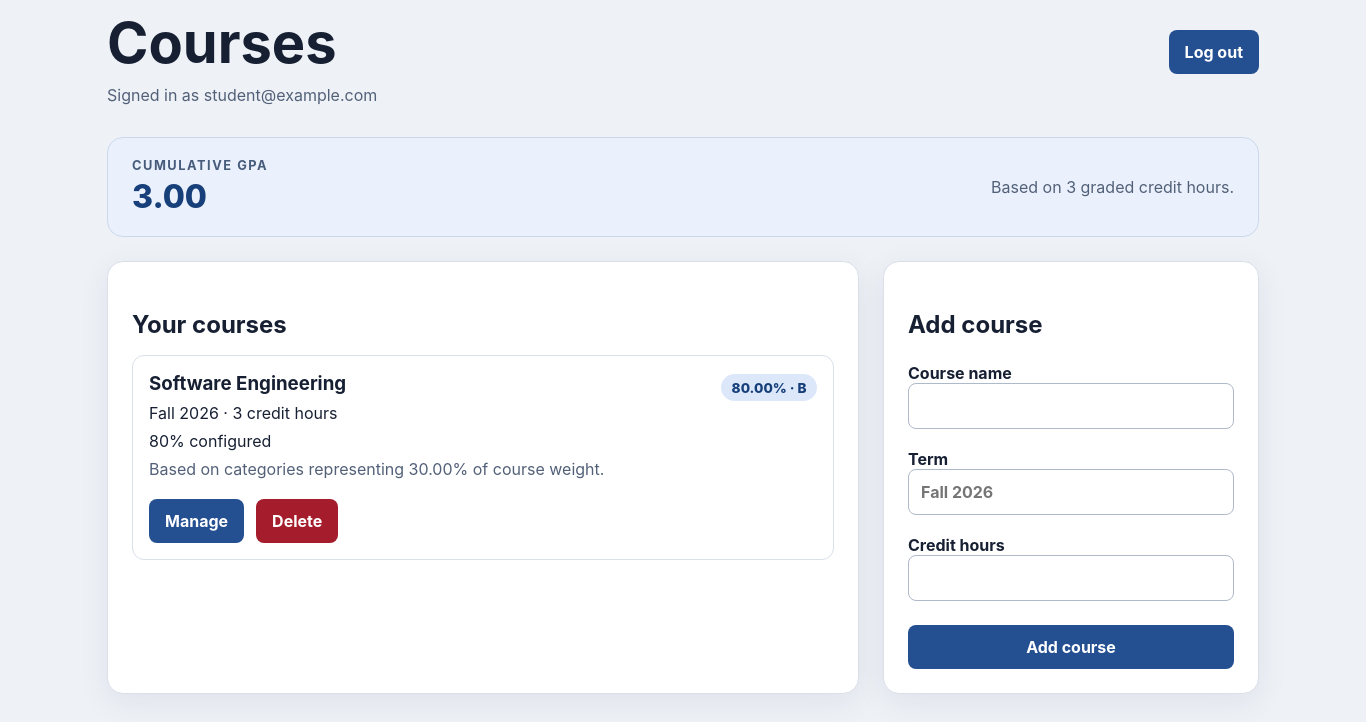
Scenario: What-If calculator › clears the projection and resets the inputs
Click the button "Manage". click: (197, 521)
box: [149, 499, 244, 543]
(page scrolled)
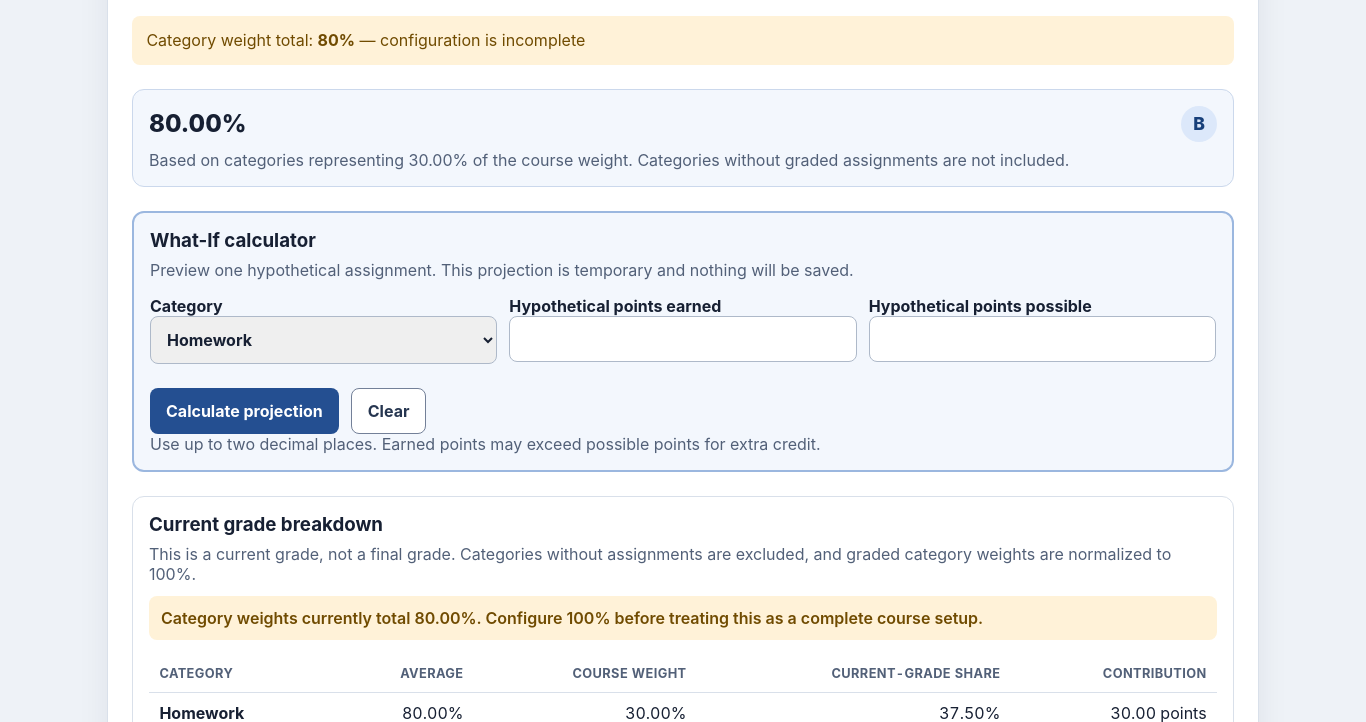
Expected: the heading "What-If calculator" is shown, [150, 229, 316, 252]
Type "92" into the number field labelled "Hypothetical points earned". click: (683, 339)
box: [509, 316, 857, 362]
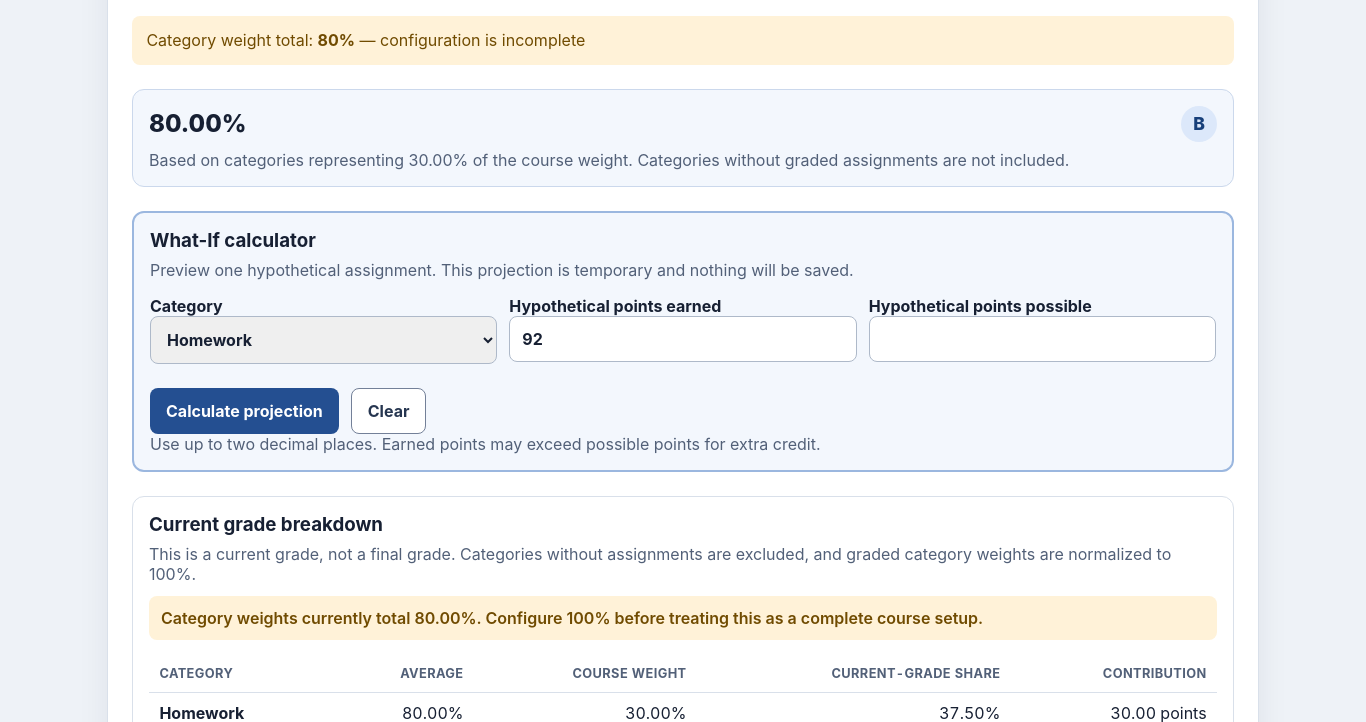
Type "100" into the number field labelled "Hypothetical points possible". click: (1042, 339)
box: [869, 316, 1216, 362]
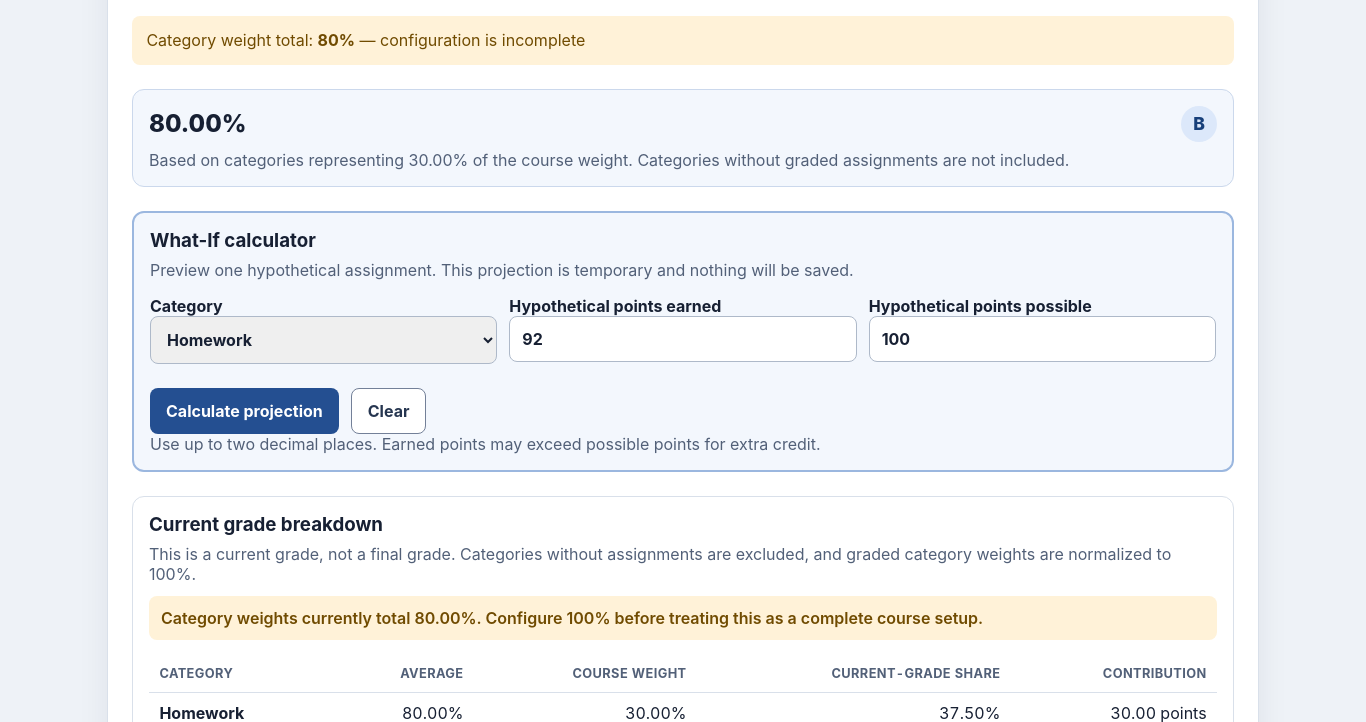
Click the button "Calculate projection". click: (244, 411)
box: [150, 388, 339, 434]
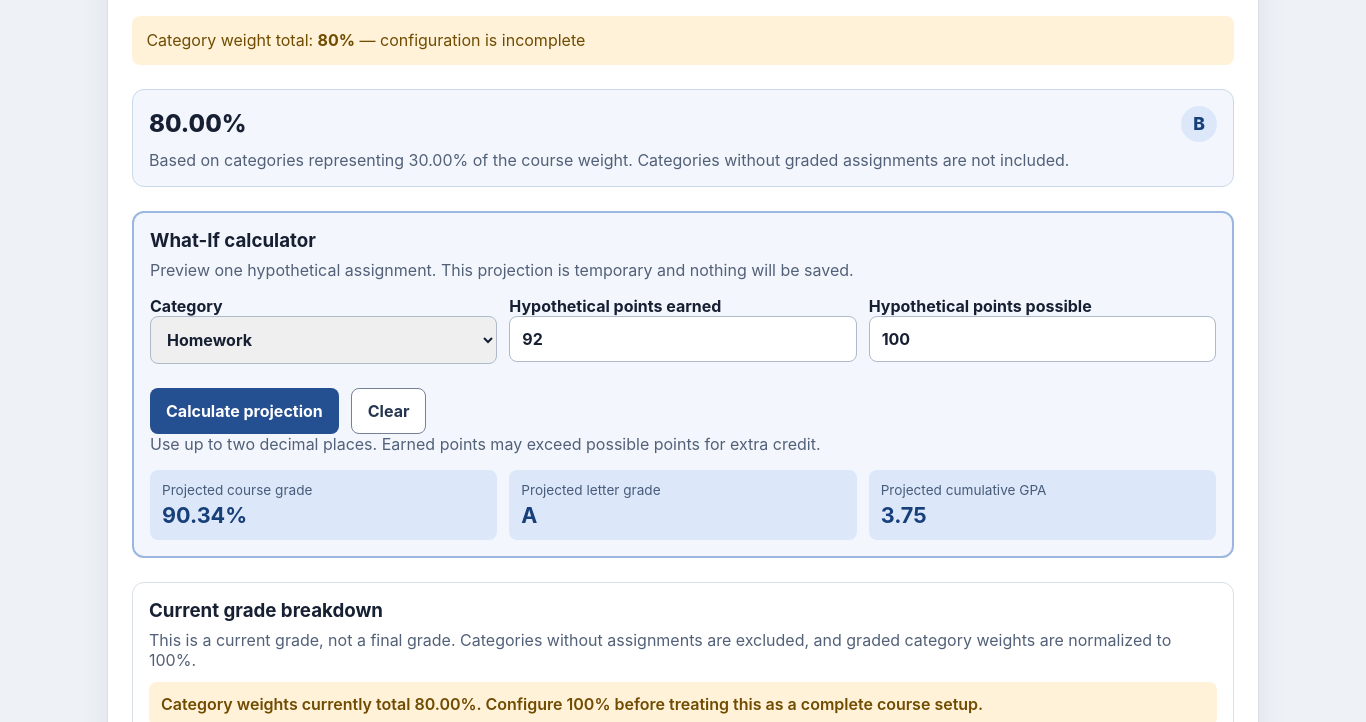
Expected: the text "90.34%" is shown, [162, 502, 247, 528]
Click the button "Clear". click: (389, 411)
box: [351, 388, 426, 434]
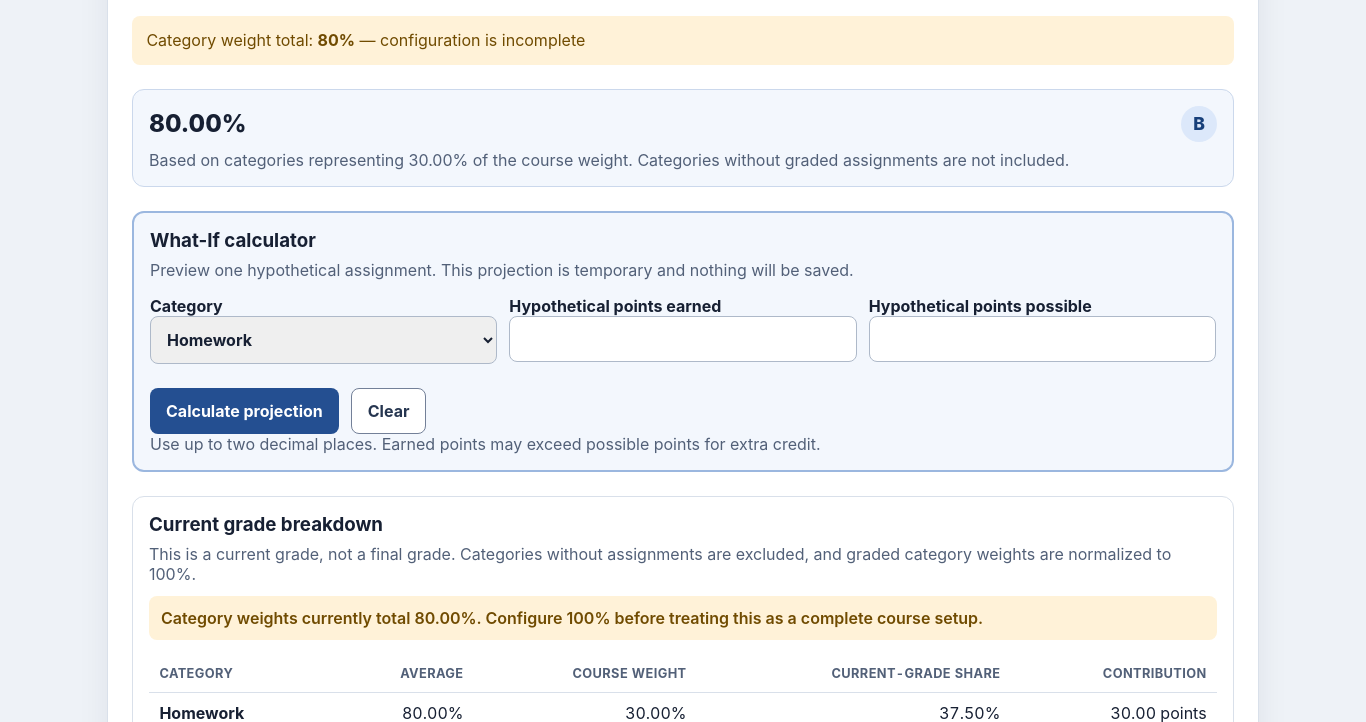
Expected: the text "90.34%" is gone
Expected: the number field labelled "Hypothetical points earned" is empty, [509, 316, 857, 362]
Expected: the number field labelled "Hypothetical points possible" is empty, [869, 316, 1216, 362]
